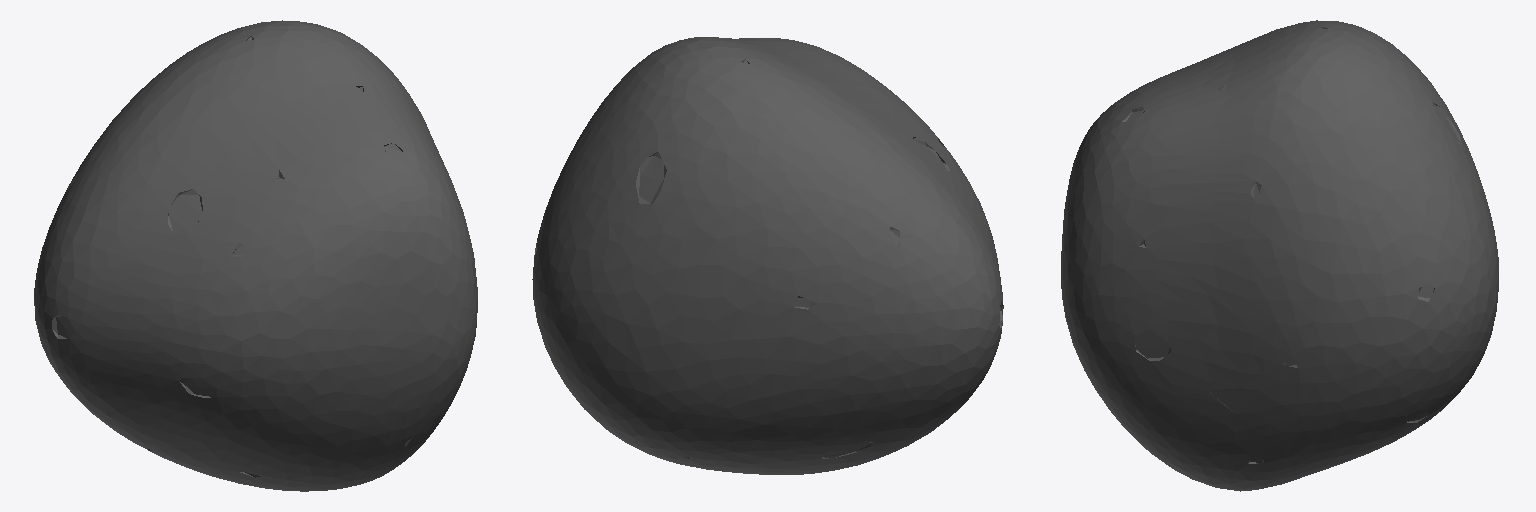
The robot description file, URDF, robot "ISS":
<?xml version="0.0" ?>
<robot name="ISS">
  <link name="ISS_link">
    <inertial>
      <origin rpy="0 0 0" xyz="0 0 0"/>
       <mass value=".0"/>
       <inertia ixx="0" ixy="0" ixz="0" iyy="0" iyz="0" izz="0"/>
    </inertial>
    <visual>
      <origin rpy="0 0 0" xyz="-0.07 -0.06 -0.07"/>
      <geometry>
		    <mesh filename="package://safemotions/description/meshes/obstacles/visual/asteroid.obj" scale="0.001 0.001 0.001"/>
      </geometry>
      <material name="gray">
        <color rgba="0.4 0.4 0.4 1"/>
      </material>
    </visual>
    <collision>
      <origin rpy="0 0 0" xyz="-0.07 -0.06 -0.07"/>
      <geometry>
		    <mesh filename="package://safemotions/description/meshes/obstacles/collision/asteroid.obj" scale="0.001 0.001 0.001"/>
      </geometry>
    </collision>
  </link>
</robot>

--- Render facts (derived) ---
3 views of the same robot in one strip: view 1: azimuth 30°, elevation 25°; view 2: azimuth 150°, elevation 25°; view 3: azimuth 270°, elevation 25° (orthographic).
Model ISS with 1 links and 0 joints (none), rooted at ISS_link, posed every joint at zero.
Links seen in each view (by area): view 1: ISS_link; view 2: ISS_link; view 3: ISS_link.
Link boxes in pixels (x1,y1,x2,y2): ISS_link: [34, 20, 477, 491]; ISS_link: [532, 37, 1003, 474]; ISS_link: [1061, 20, 1498, 491].
Size in the robot's own frame: 0.13 by 0.12 by 0.1323 metres.
Meshes: 1 distinct files referenced, 1 mesh visuals loaded (1 OBJ).